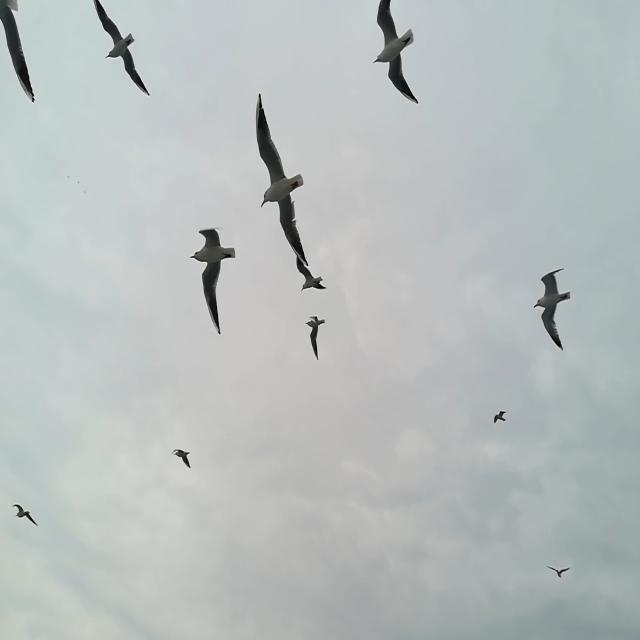bird: (256, 94, 311, 266), (95, 2, 153, 97), (191, 230, 236, 335), (373, 2, 417, 104), (0, 0, 36, 104), (534, 269, 570, 349), (295, 256, 327, 290), (306, 317, 326, 358), (13, 505, 39, 528), (171, 449, 191, 468), (546, 566, 571, 581), (494, 411, 509, 424)
